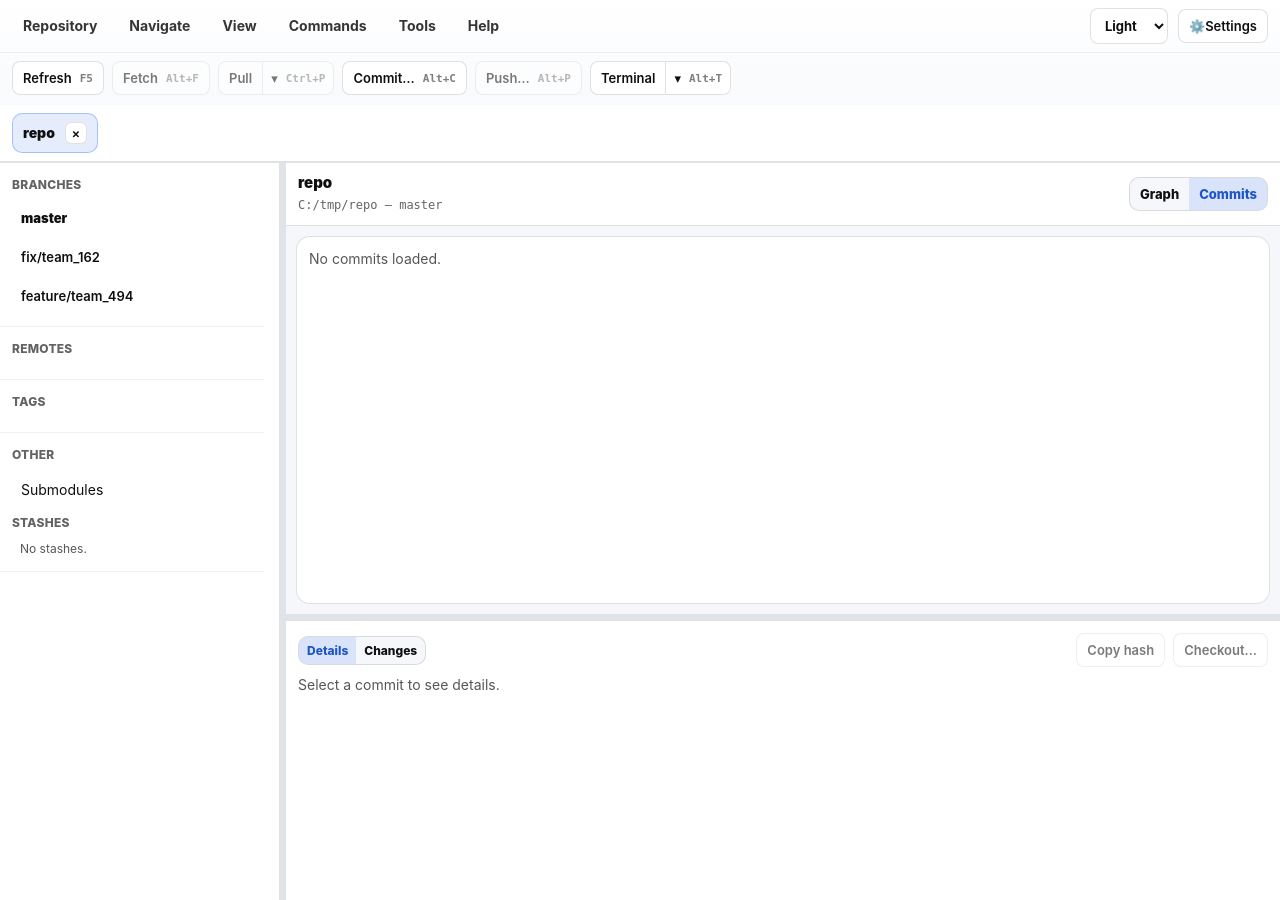
Test: Clean old branches - unmerged branches › skips unmerged branches when the user declines
The image size is (1280, 900).
Click the text "Tools": {"x": 417, "y": 26} [399,17,436,34]
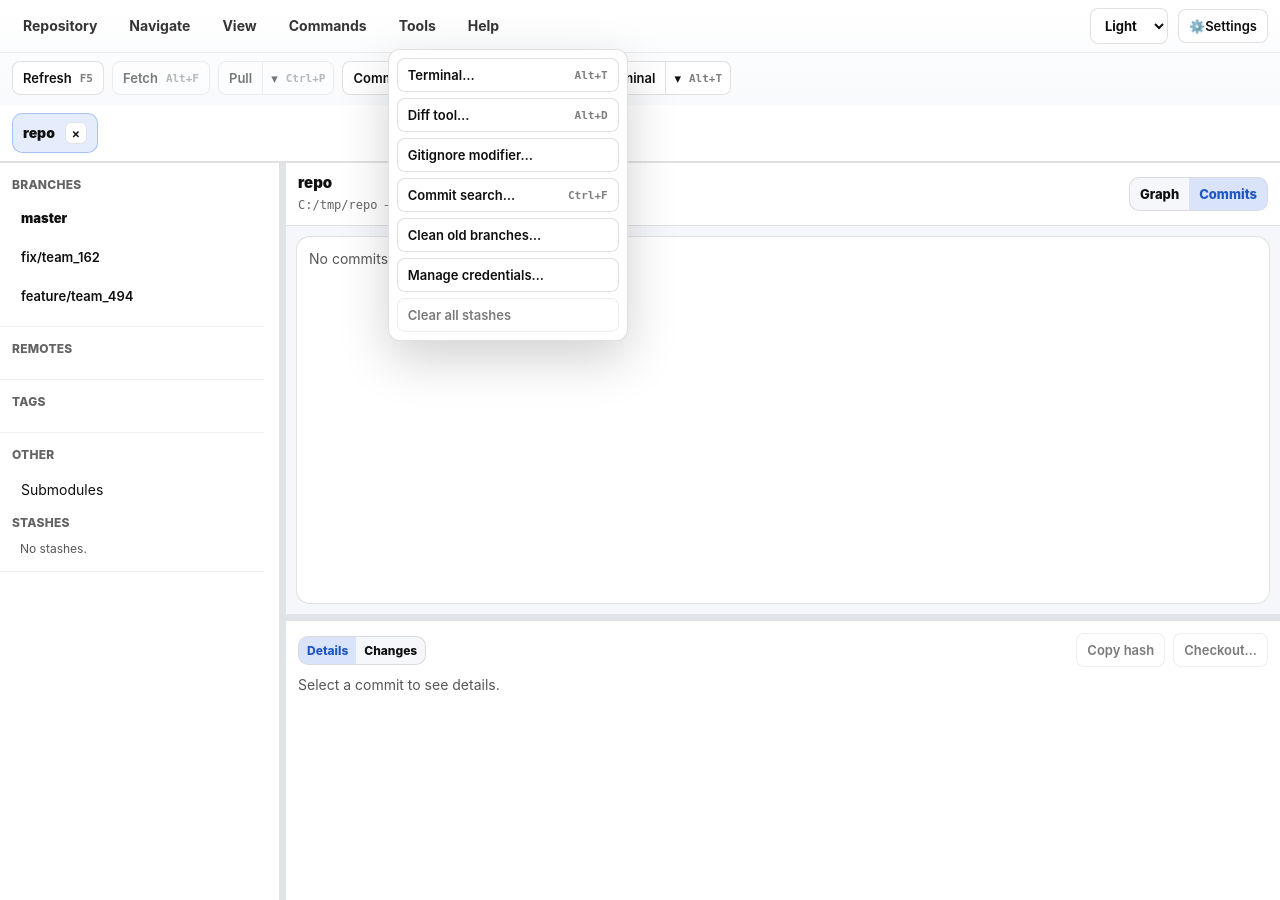
Click the button "Clean old branches…": {"x": 508, "y": 235} [397,218,619,252]
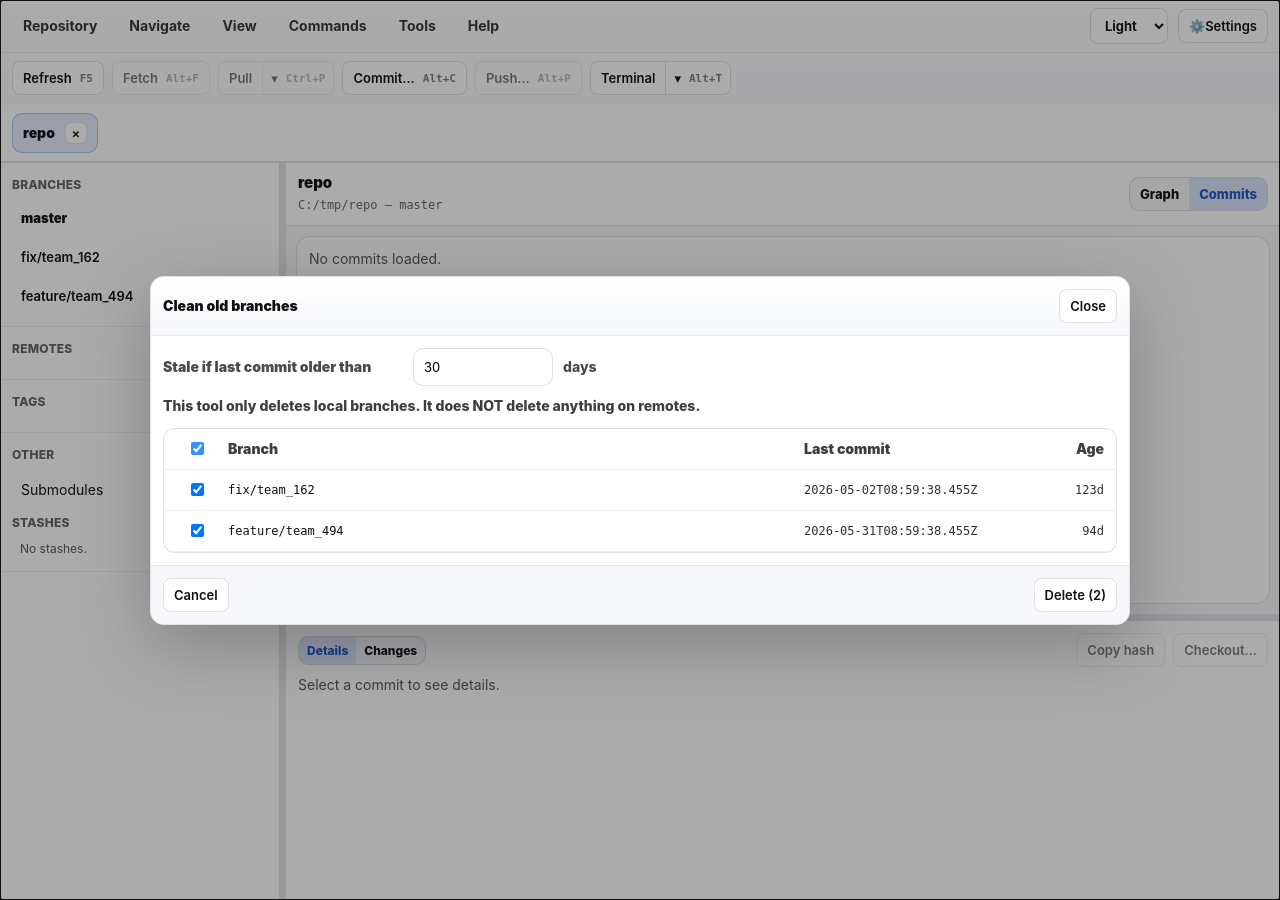
Now the text "Clean old branches" is shown, box [163,296,298,316]
Now the text "fix/team_162" is shown, box [228,482,315,496]
Click the button "Delete (2)": {"x": 1075, "y": 594} [1034,578,1117,612]
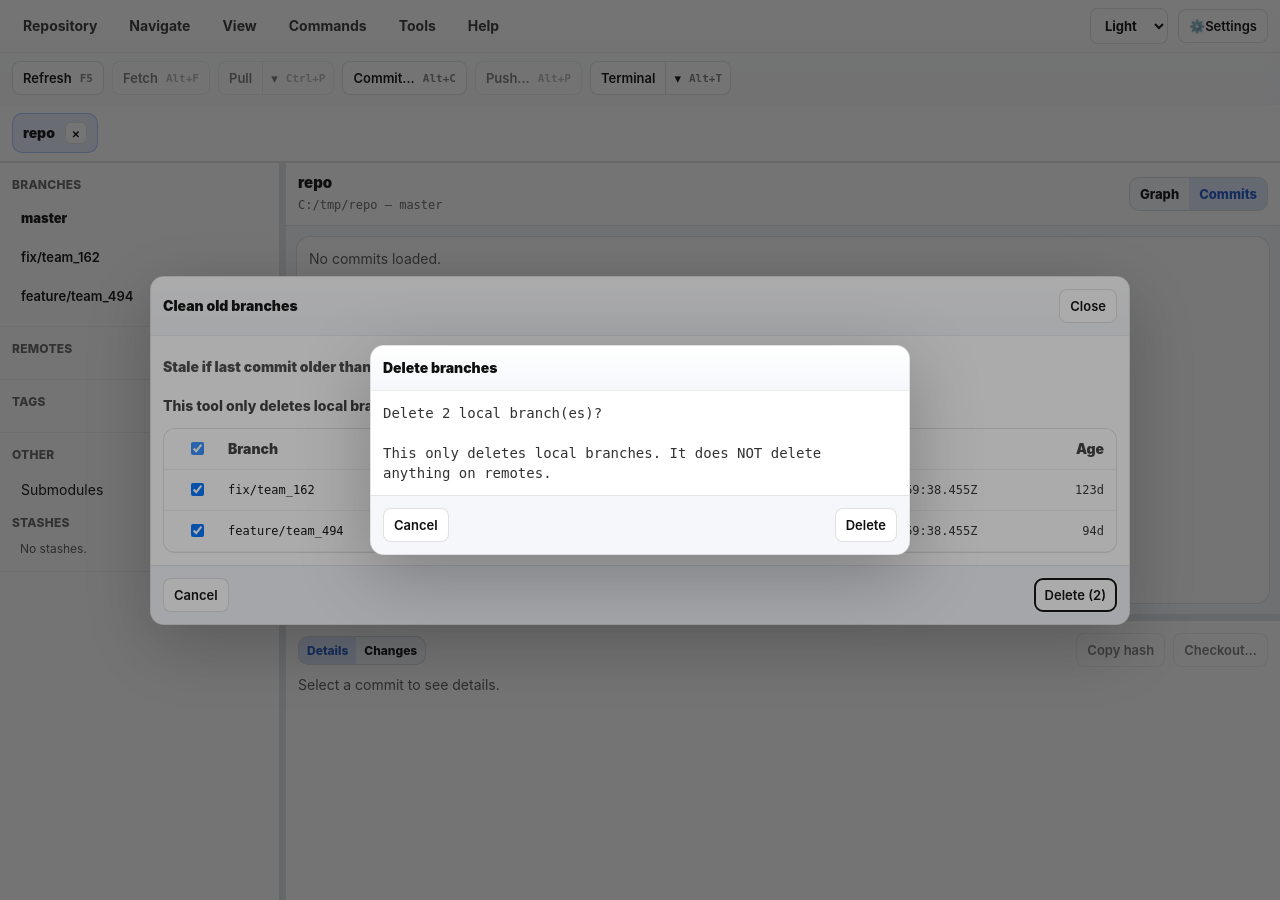
Click the button "Delete": {"x": 866, "y": 525} [835,508,897,542]
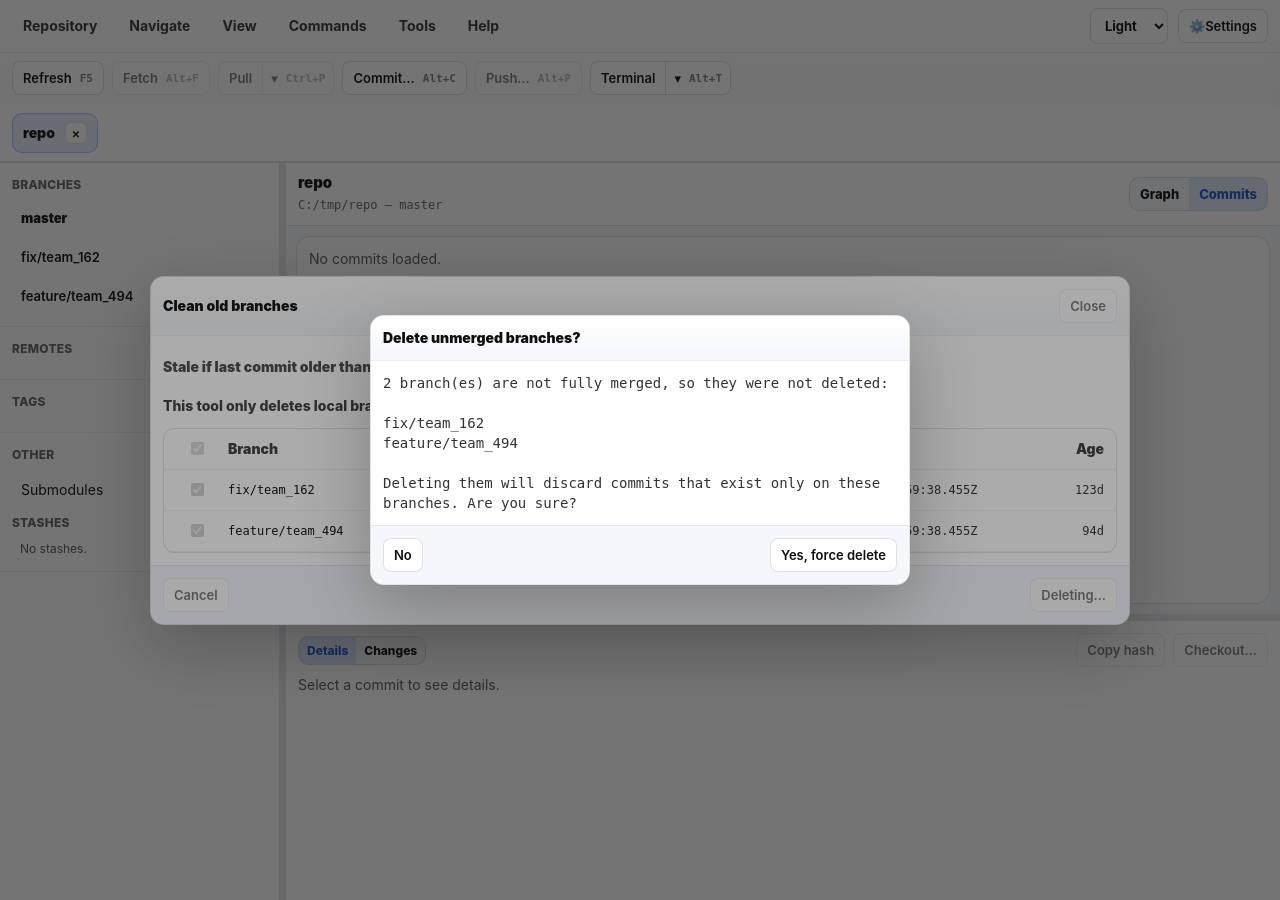
Now the text "Delete unmerged branches?" is shown, box [383,328,581,348]
Click the button "No": {"x": 403, "y": 555} [383,538,423,572]
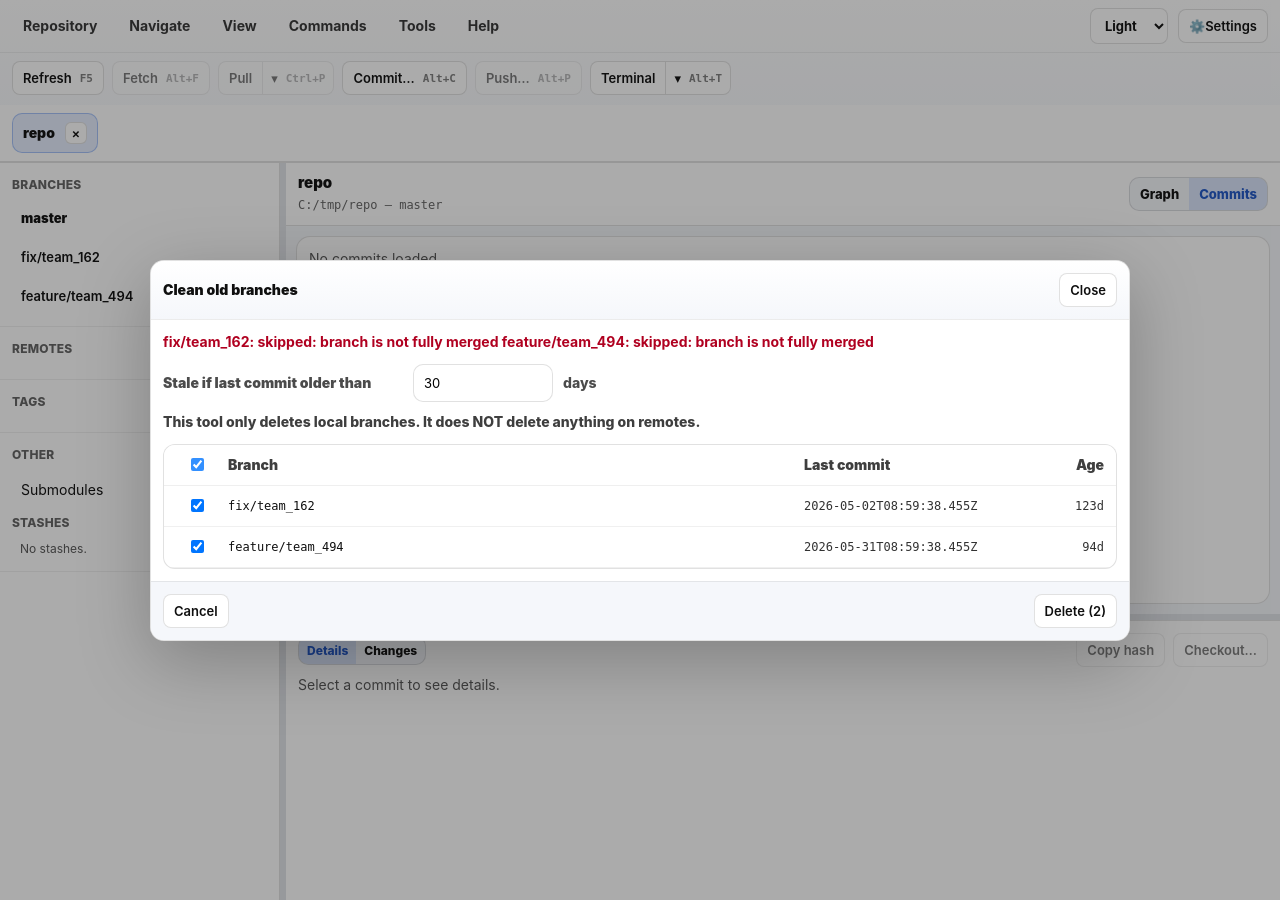
Now the text "skipped: branch is not fully merged" is shown, box [163,332,874,350]
